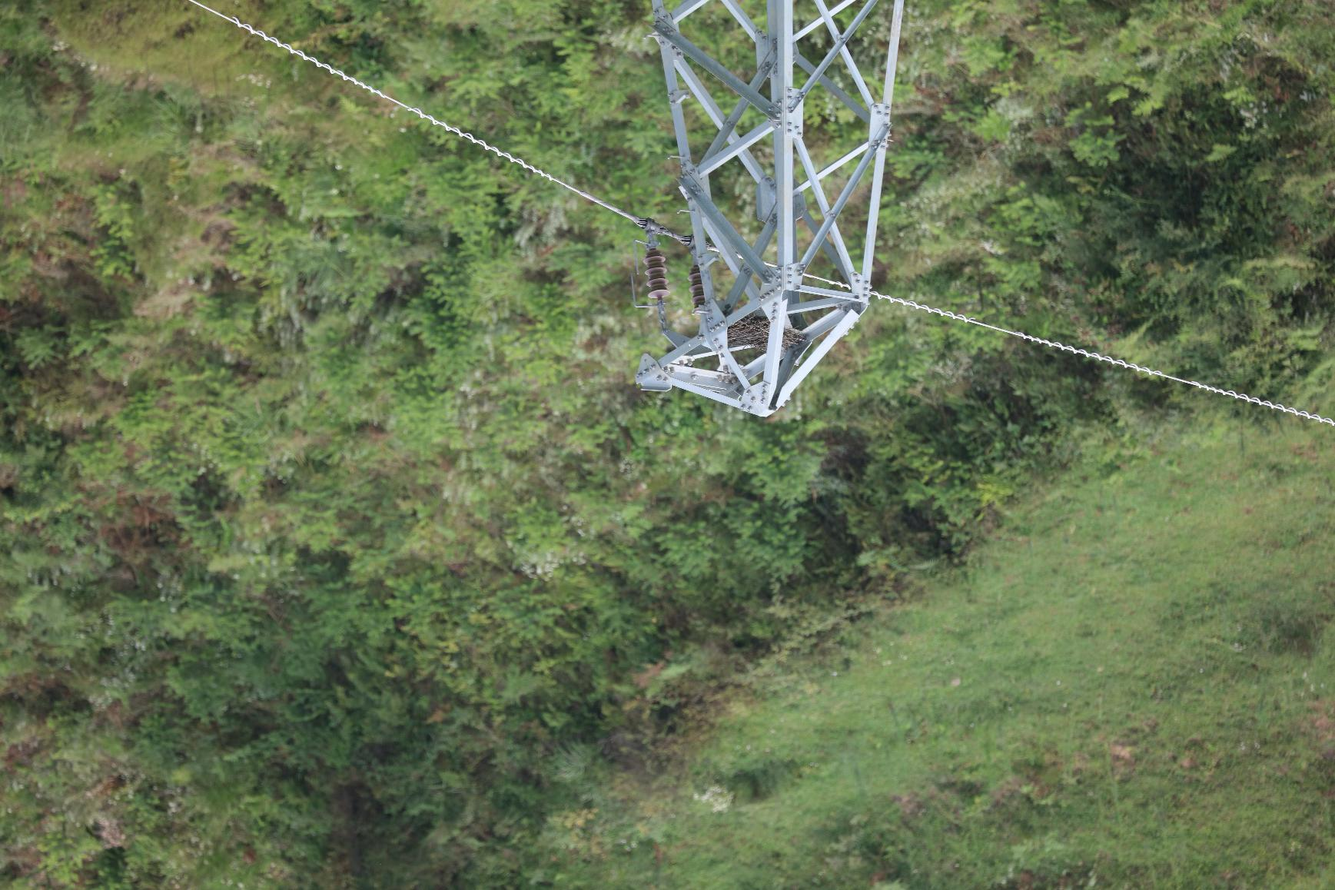nest: (726, 312, 801, 351)
